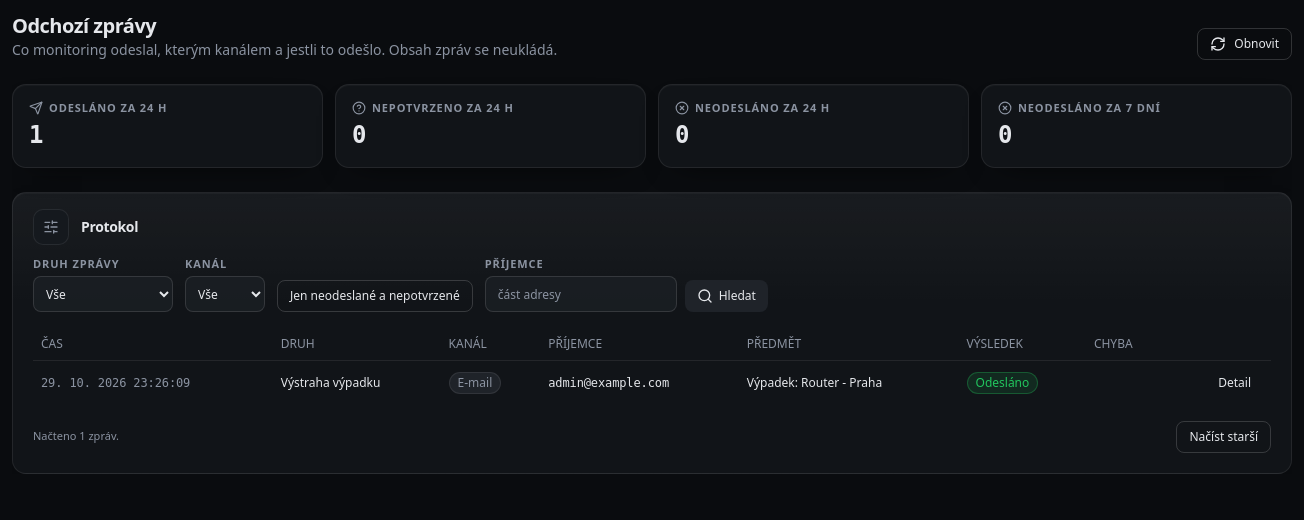
it: Odchozí zprávy › starší stránka se připojí a pošle kurzor
Check: the text "admin@example.com" is shown, box [540,360,739,405]
Click the button "Načíst starší" at {"x": 1224, "y": 437}, box [1176,421,1271,453]
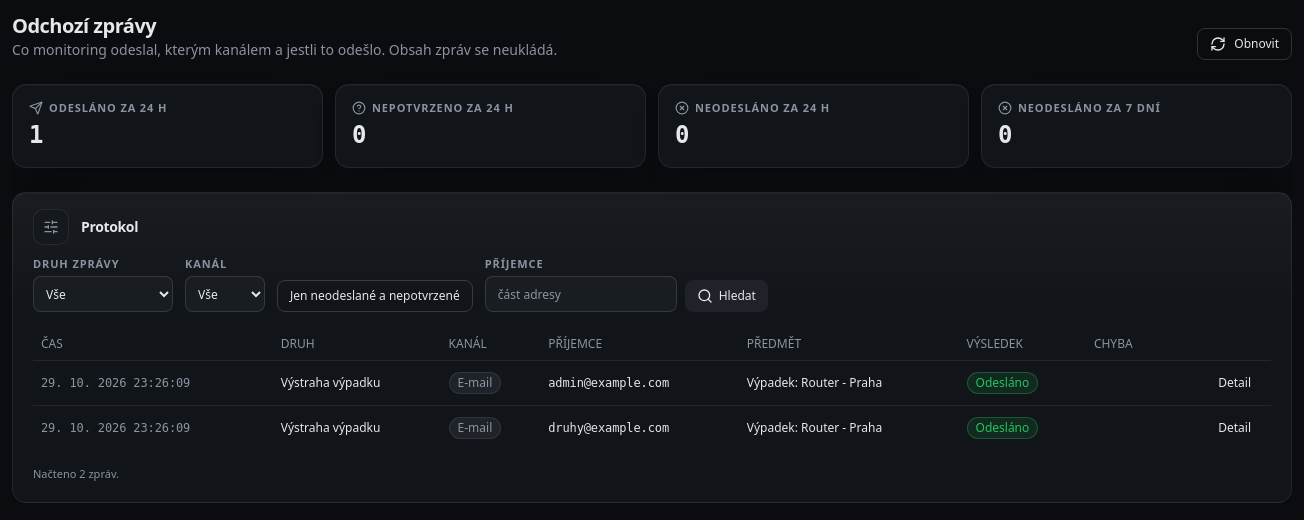
Check: the text "admin@example.com" is shown, box [540,360,739,405]
Check: the text "druhy@example.com" is shown, box [540,405,739,450]
